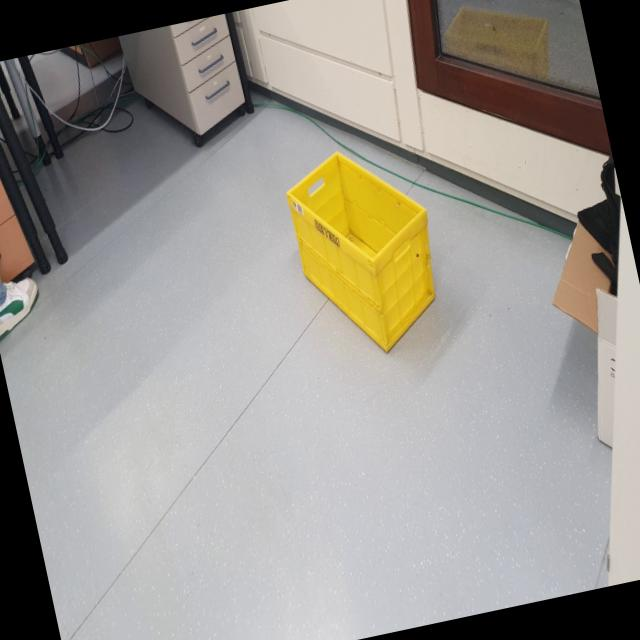box: (268, 124, 466, 401)
